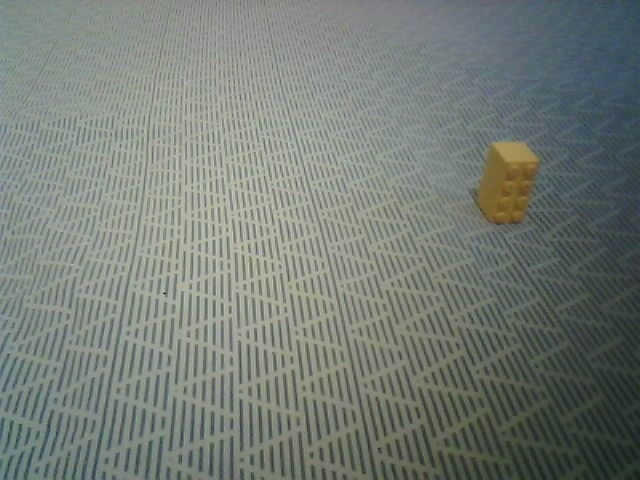lego: (477, 141, 540, 225)
